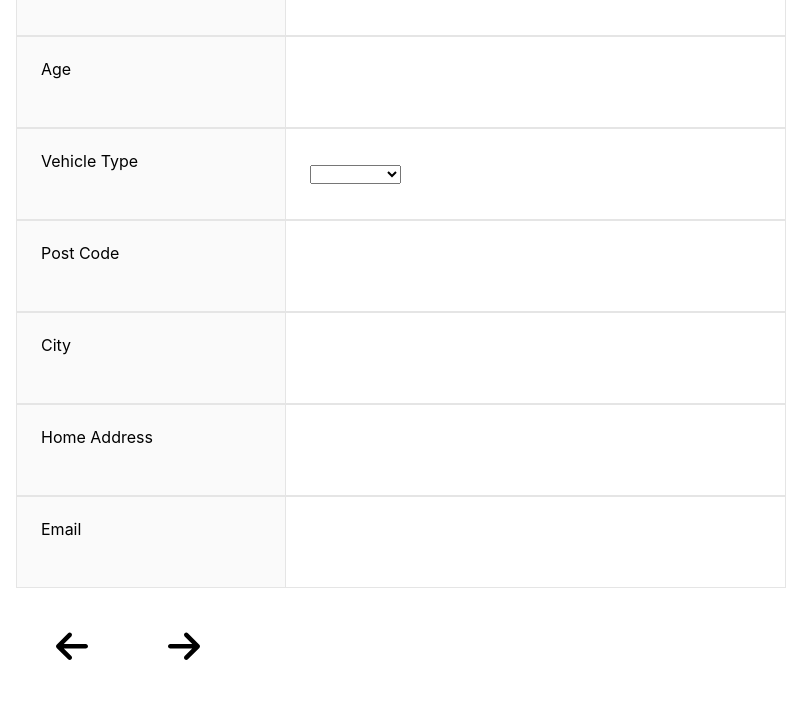
Test: checks error messages › check if error messages display
(page scrolled)
Step 1. Click the button with test id "nav-button-right" → (184, 648), box [144,620,224,676]
(page scrolled)
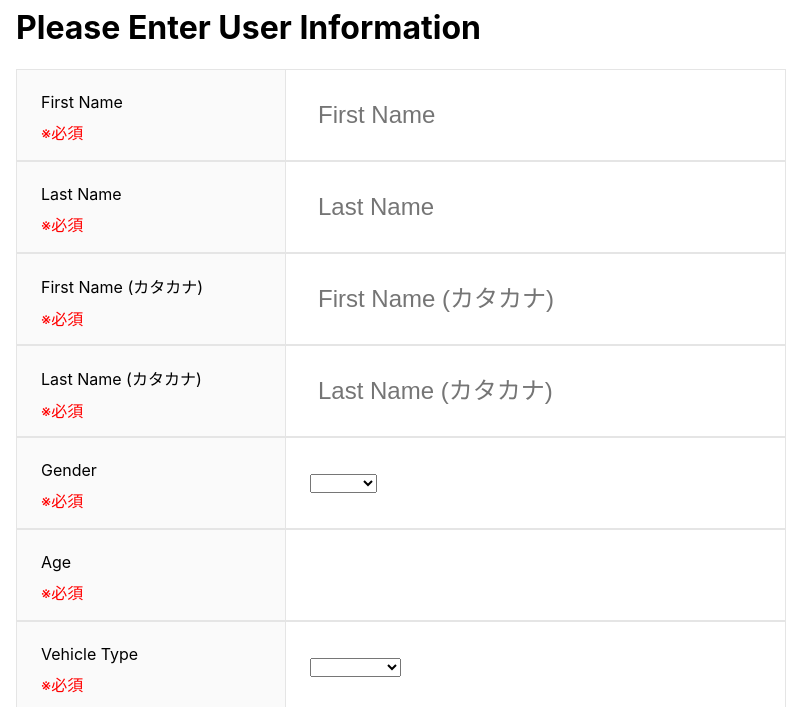
Expected: the number of elements with test id "error-message" is 11
Expected: the 2nd text with test id "error-message" is shown, [41,215,83,235]
Expected: the text with test id "error-message" below "First Name (カタカナ)" is shown, [41,309,83,329]
